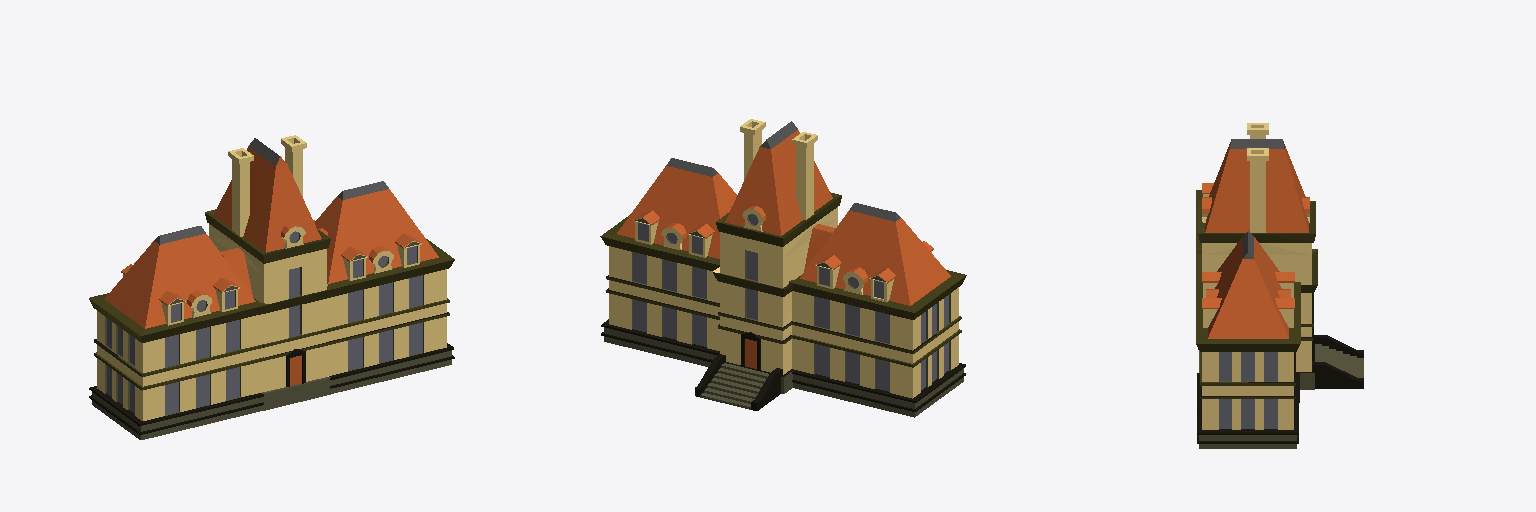
Rendered from Palace_Byzantine.obj.
The picture shows the model from 3 angles: view 1: azimuth 30°, elevation 25°; view 2: azimuth 150°, elevation 25°; view 3: azimuth 270°, elevation 25°; orthographic projection.
Visible parts, largest first — view 1: SM_Palace; view 2: SM_Palace; view 3: SM_Palace.
Boxes of the visible parts, x1=… form: SM_Palace: x1=89, y1=135, x2=454, y2=439; SM_Palace: x1=600, y1=119, x2=966, y2=417; SM_Palace: x1=1196, y1=123, x2=1363, y2=448.
Size of the model in its own units: 52.39 by 37.33 by 24.2.